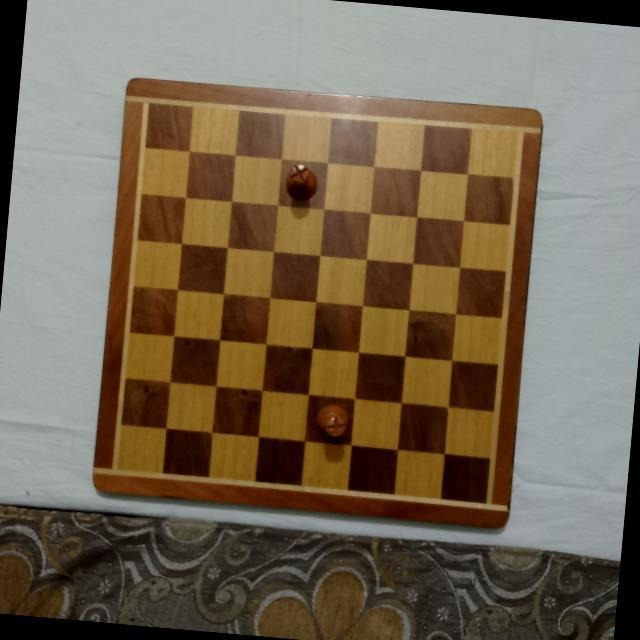white-rook: (283, 161, 321, 205), (312, 399, 352, 440)
